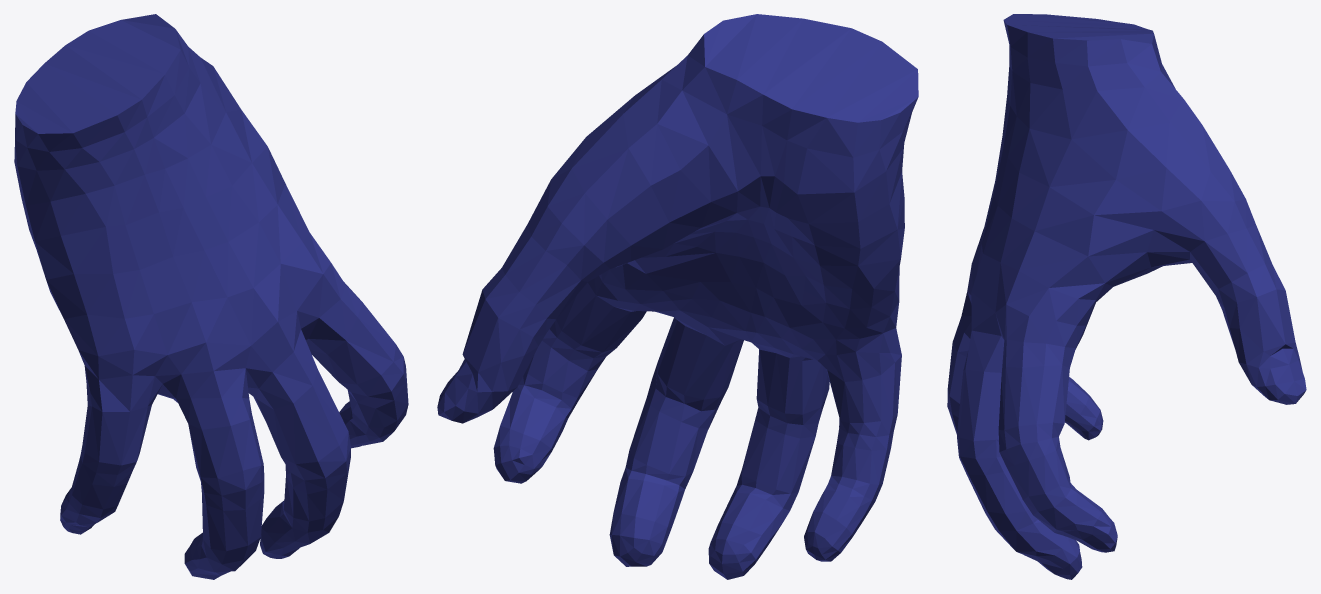
The picture shows the model from 3 angles, left to right: view 1: azimuth 30°, elevation 25°; view 2: azimuth 150°, elevation 25°; view 3: azimuth 270°, elevation 25°; orthographic projection. The views are drawn at different scales.
Size of the model in its own units: 0.1222 by 0.1711 by 0.1122.
